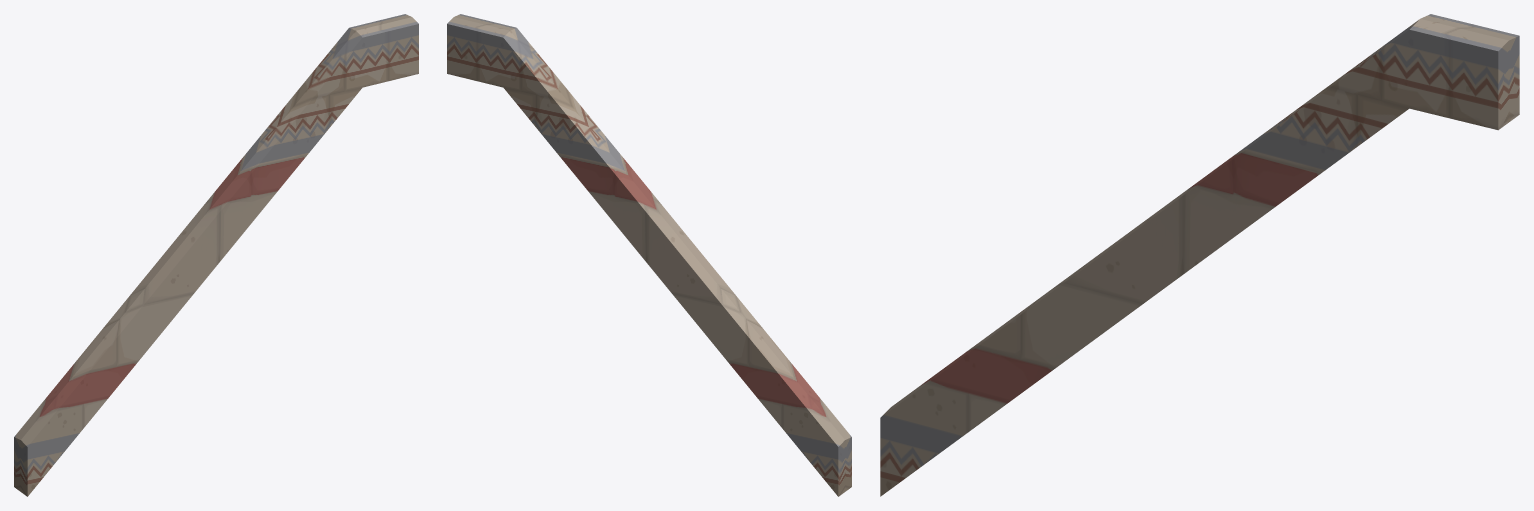
Rendered from SM_Bld_Wall_Balcony_Stairs_01.fbx.
3 views of the same model, side by side, from view 1: azimuth 30°, elevation 25°; view 2: azimuth 150°, elevation 25°; view 3: azimuth 330°, elevation 25° (orthographic). The views are drawn at different scales.
Parts seen in each view (by area): view 1: SM_Bld_Wall_Balcony_Stairs_01; view 2: SM_Bld_Wall_Balcony_Stairs_01; view 3: SM_Bld_Wall_Balcony_Stairs_01.
Part boxes in pixels (x1=…): SM_Bld_Wall_Balcony_Stairs_01: x1=14, y1=14, x2=418, y2=496; SM_Bld_Wall_Balcony_Stairs_01: x1=447, y1=14, x2=851, y2=496; SM_Bld_Wall_Balcony_Stairs_01: x1=880, y1=14, x2=1519, y2=496.
Size of the model in its own units: 375 by 348 by 22.5.
